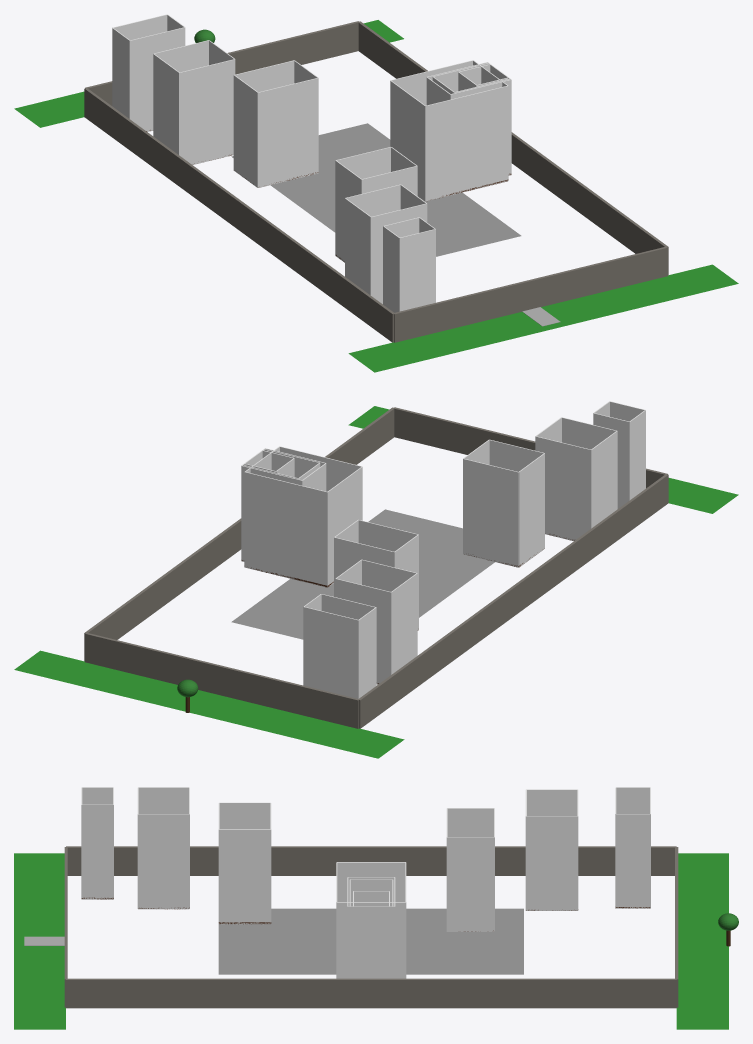
Rendered from enhanced_boq_3a10d013-112b-48e3-b96e-9fc40bd76471.obj.
3 views of the same model, one above another, from view 1: azimuth 30°, elevation 25°; view 2: azimuth 150°, elevation 25°; view 3: azimuth 270°, elevation 25° (orthographic).
Parts seen in each view (by area): view 1: ExteriorWall_West, FrontYard, ExteriorWall_South, SouthWall_Living_Room_1, Foundation, ExteriorWall_East, SouthWall_Bedroom_1, SouthWall_Utility_Room_1, ExteriorWall_North, SouthWall_Kitchen_1, SouthWall_Bathroom_1, WestWall_Living_Room_1 (+16 smaller); view 2: ExteriorWall_West, BackYard, ExteriorWall_North, NorthWall_Living_Room_1, Foundation, ExteriorWall_East, NorthWall_Bedroom_2, NorthWall_Store_Room_1, NorthWall_Kitchen_1, ExteriorWall_South, WestWall_Bedroom_2, WestWall_Utility_Room_1 (+16 smaller); view 3: ExteriorWall_East, Foundation, ExteriorWall_West, BackYard, FrontYard, EastWall_Store_Room_1, EastWall_Bedroom_2, EastWall_Utility_Room_1, EastWall_Bedroom_1, EastWall_Bedroom_3, EastWall_Kitchen_1, EastWall_Bathroom_1 (+14 smaller).
Boxes of the visible parts, left/top/right/bottom form: ExteriorWall_West: left=84, top=88, right=393, bottom=342; FrontYard: left=348, top=264, right=738, bottom=372; ExteriorWall_South: left=393, top=246, right=667, bottom=342; SouthWall_Living_Room_1: left=425, top=85, right=508, bottom=201; Foundation: left=231, top=123, right=521, bottom=256; ExteriorWall_East: left=358, top=21, right=668, bottom=275; SouthWall_Bedroom_1: left=258, top=78, right=318, bottom=187; SouthWall_Utility_Room_1: left=179, top=59, right=235, bottom=164; ExteriorWall_North: left=85, top=21, right=359, bottom=105; SouthWall_Kitchen_1: left=130, top=27, right=185, bottom=131; SouthWall_Bathroom_1: left=399, top=229, right=435, bottom=311; WestWall_Living_Room_1: left=390, top=80, right=425, bottom=200; ExteriorWall_West: left=359, top=474, right=668, bottom=728; BackYard: left=14, top=650, right=404, bottom=758; ExteriorWall_North: left=85, top=632, right=359, bottom=728; NorthWall_Living_Room_1: left=244, top=472, right=327, bottom=586; Foundation: left=231, top=509, right=494, bottom=639; ExteriorWall_East: left=84, top=407, right=394, bottom=661; NorthWall_Bedroom_2: left=463, top=458, right=518, bottom=567; NorthWall_Store_Room_1: left=535, top=436, right=591, bottom=540; NorthWall_Kitchen_1: left=303, top=606, right=358, bottom=698; ExteriorWall_South: left=393, top=407, right=667, bottom=488; WestWall_Bedroom_2: left=518, top=453, right=544, bottom=567; WestWall_Utility_Room_1: left=391, top=573, right=417, bottom=674; ExteriorWall_East: left=66, top=978, right=676, bottom=1008; Foundation: left=218, top=908, right=523, bottom=974; ExteriorWall_West: left=66, top=846, right=676, bottom=875; BackYard: left=676, top=853, right=728, bottom=1029; FrontYard: left=14, top=853, right=65, bottom=1029; EastWall_Store_Room_1: left=138, top=814, right=189, bottom=909; EastWall_Bedroom_2: left=219, top=829, right=270, bottom=924; EastWall_Utility_Room_1: left=526, top=816, right=577, bottom=910; EastWall_Bedroom_1: left=447, top=837, right=494, bottom=931; EastWall_Bedroom_3: left=348, top=906, right=394, bottom=978; EastWall_Kitchen_1: left=616, top=814, right=650, bottom=908; EastWall_Bathroom_1: left=81, top=804, right=113, bottom=899.
Bounding box in the file's own units: 40 × 10 × 69.54.
